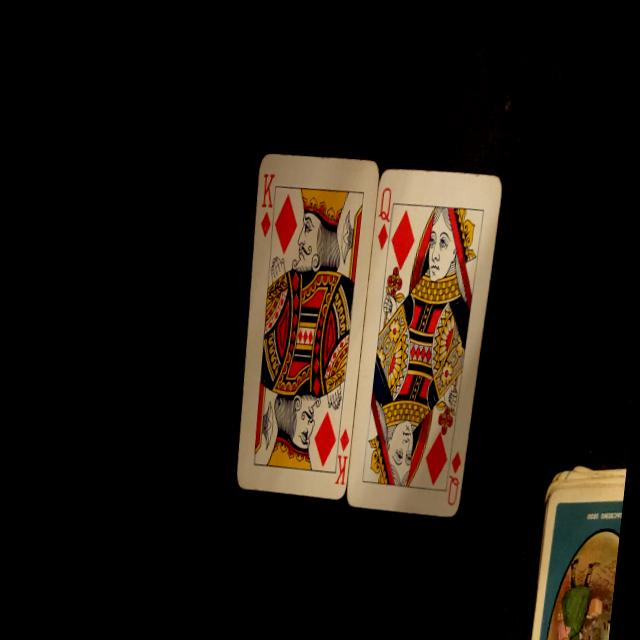Diamond: (388, 208, 418, 272), (271, 192, 300, 255), (311, 410, 338, 468), (422, 430, 449, 486), (258, 210, 272, 238), (376, 223, 388, 251), (338, 428, 349, 452), (451, 451, 462, 474)
King: (260, 172, 276, 208), (334, 454, 348, 484)
Queen: (378, 186, 392, 222), (446, 475, 460, 505)
